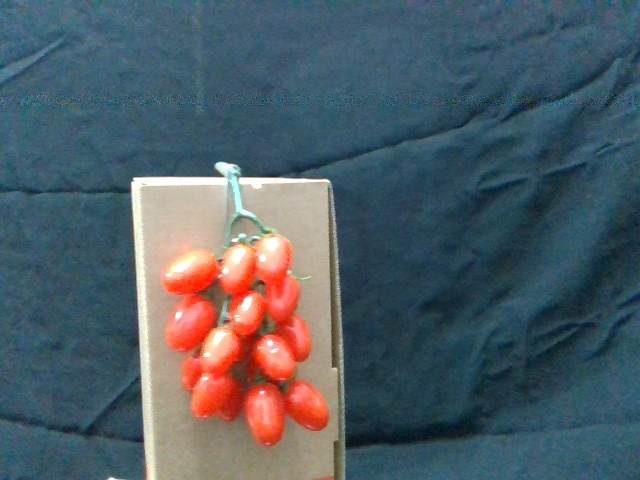tomato: (166, 297, 218, 354), (165, 251, 221, 298), (249, 381, 285, 446), (284, 380, 329, 431), (203, 325, 243, 378), (192, 374, 234, 421), (254, 333, 295, 380), (221, 245, 258, 295), (263, 275, 301, 323), (230, 289, 266, 337), (279, 316, 314, 365), (257, 235, 292, 282)
